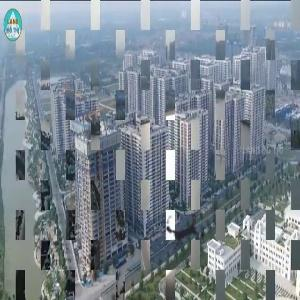drone: (148, 190, 226, 268)
